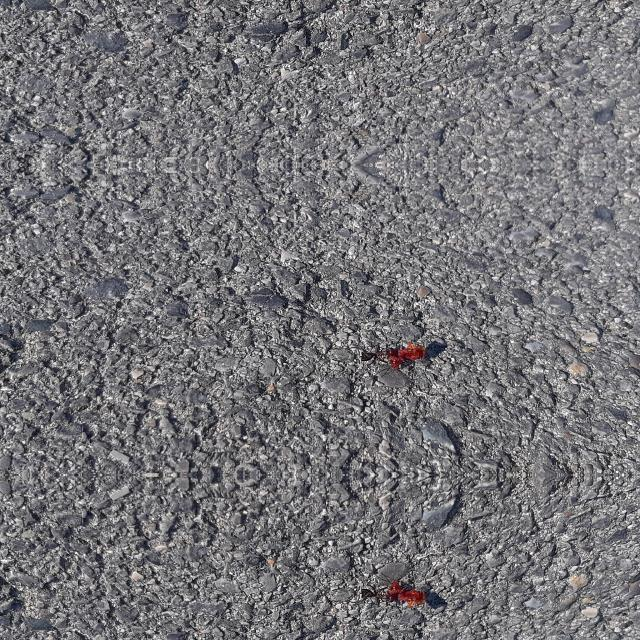Cataglyphis: (349, 338, 409, 369), (349, 580, 409, 610)
